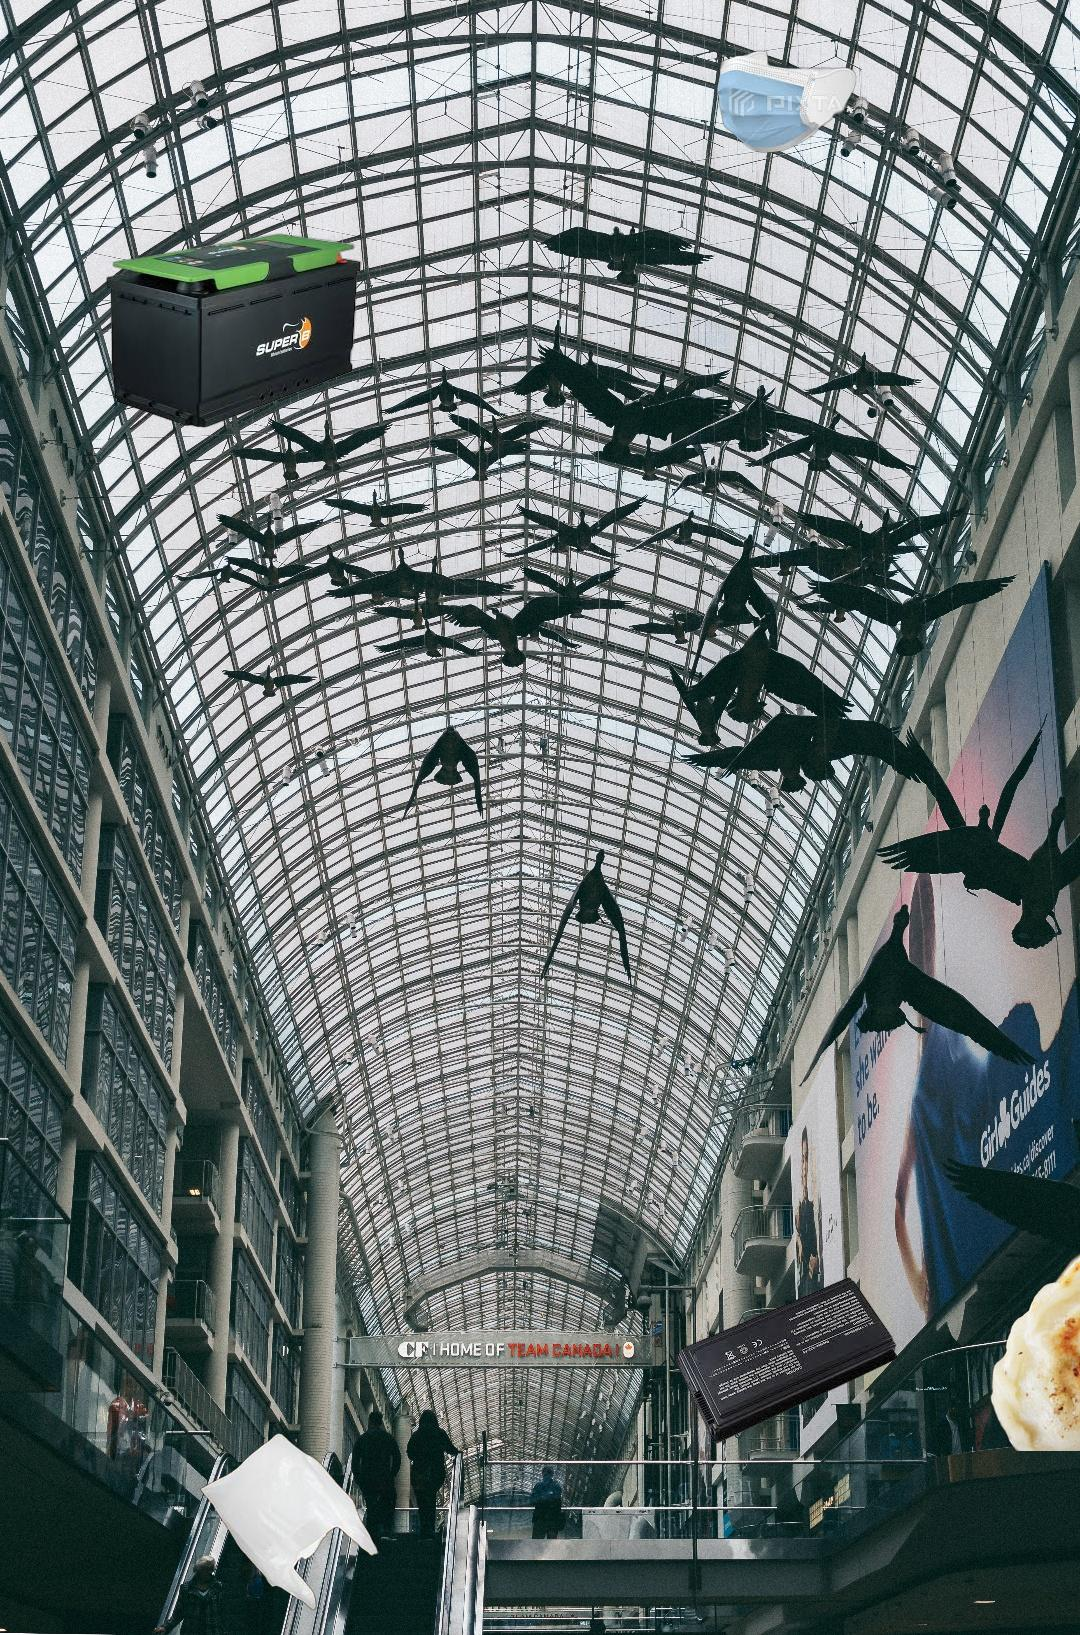battery: (106, 233, 362, 430), (673, 1275, 898, 1446)
biological: (909, 1127, 1080, 1451)
plastic-bag: (198, 1425, 429, 1611)
trash: (714, 48, 859, 155)
